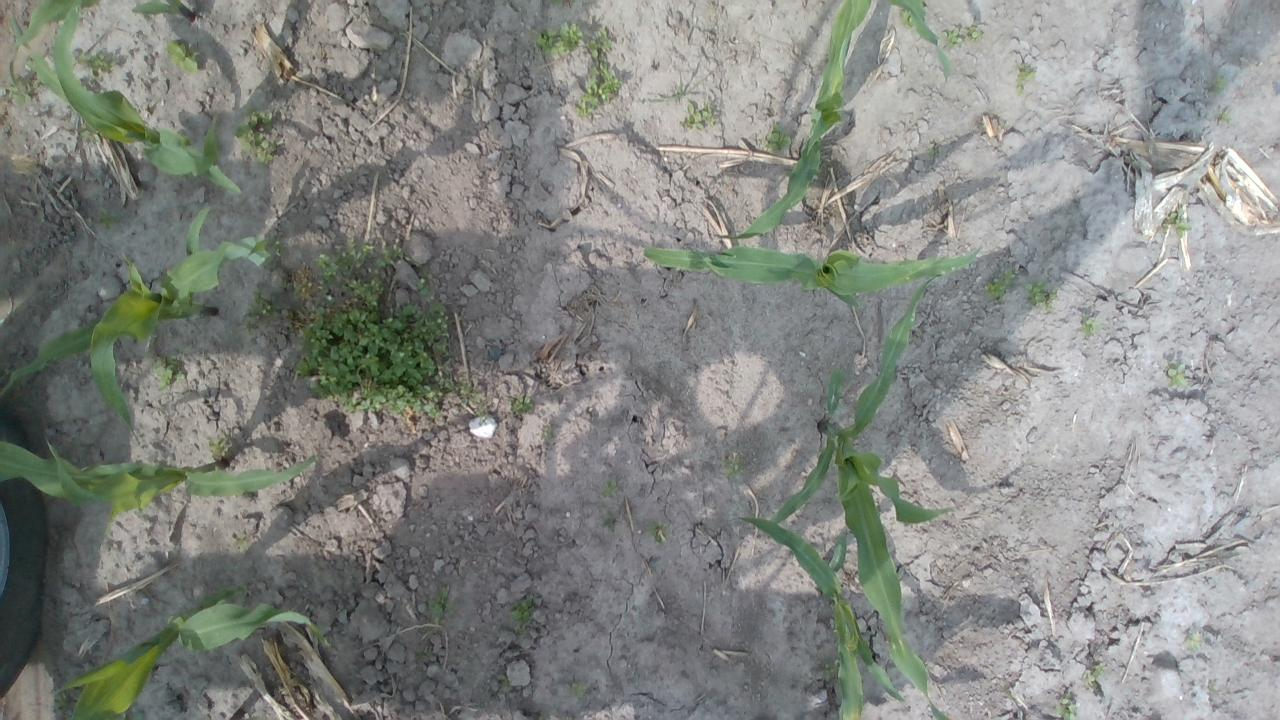Maize: (767, 275, 954, 720), (0, 206, 268, 432), (27, 1, 238, 197), (710, 0, 870, 241), (54, 586, 333, 720), (737, 515, 905, 720), (0, 437, 318, 535), (643, 241, 984, 308), (13, 0, 195, 46), (886, 0, 950, 84)
Weeds: (296, 291, 456, 421), (314, 236, 374, 292), (574, 62, 624, 118), (232, 102, 274, 167), (242, 286, 282, 336), (536, 21, 586, 57), (241, 233, 283, 267), (164, 39, 203, 74), (69, 48, 116, 77), (1022, 280, 1058, 313), (678, 99, 716, 130), (455, 383, 487, 419), (982, 270, 1016, 303), (348, 275, 384, 306), (5, 76, 41, 106), (427, 584, 455, 622), (508, 598, 534, 638), (374, 239, 406, 270), (762, 124, 792, 154), (586, 26, 615, 57), (1013, 64, 1036, 96), (8, 16, 30, 49), (1160, 208, 1186, 235), (1056, 692, 1080, 720), (511, 393, 536, 418), (647, 519, 672, 544), (154, 365, 178, 391), (93, 208, 118, 232), (290, 274, 312, 299), (416, 276, 436, 302), (722, 451, 742, 476), (1167, 363, 1187, 387), (208, 438, 232, 457), (1080, 314, 1100, 336), (964, 23, 986, 42), (78, 123, 98, 143), (213, 583, 246, 595), (52, 690, 70, 712), (598, 480, 618, 498), (942, 29, 962, 47), (1087, 665, 1104, 685), (1213, 75, 1227, 98), (1186, 632, 1202, 652), (820, 658, 833, 682), (602, 511, 616, 533), (900, 7, 914, 28), (671, 88, 688, 102), (498, 674, 512, 689), (1216, 110, 1230, 123), (926, 144, 940, 157), (574, 682, 586, 696), (543, 427, 553, 440), (130, 711, 142, 720), (238, 536, 248, 546)
